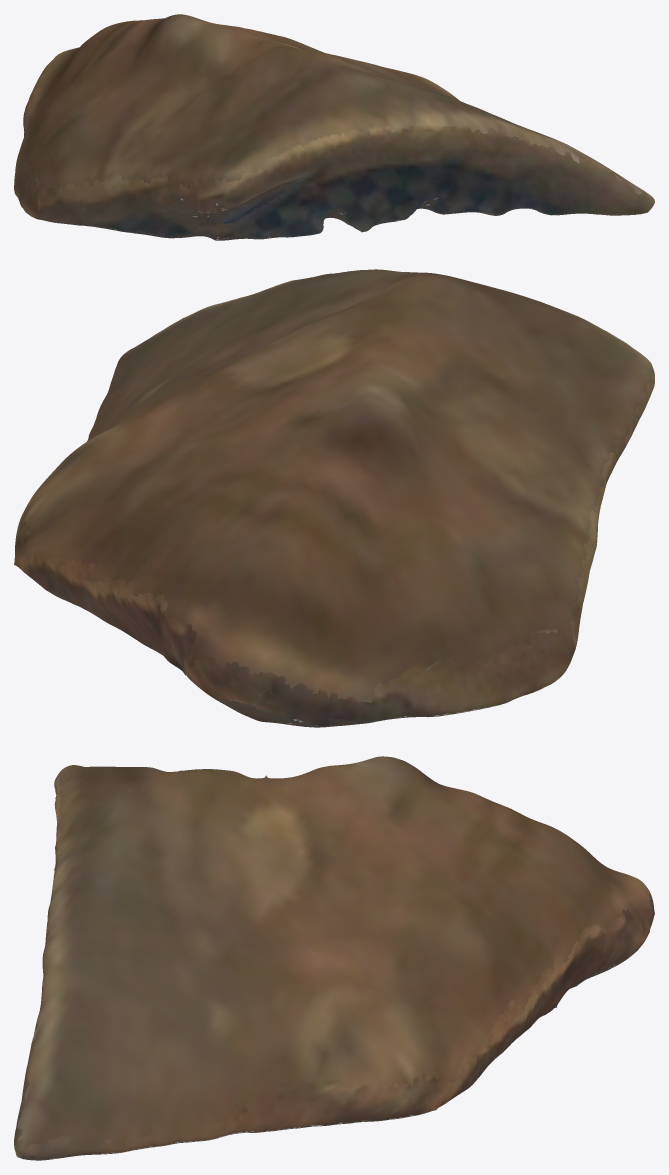
Rendered from cje_moche.glb.
The picture shows the model from 3 angles, top to bottom: view 1: azimuth 30°, elevation 25°; view 2: azimuth 150°, elevation 25°; view 3: azimuth 270°, elevation 25°; orthographic projection. The views are drawn at different scales.
Visible parts, largest first — view 1: Object_2, Object_3; view 2: Object_2, Object_3; view 3: Object_2, Object_3.
Boxes of the visible parts, x1,y1,x2,y2 form: Object_2: [14, 14, 654, 240]; Object_3: [30, 21, 646, 240]; Object_2: [14, 269, 654, 726]; Object_3: [37, 278, 654, 727]; Object_2: [14, 756, 654, 1160]; Object_3: [20, 818, 654, 1159].
Size of the model in its own units: 71.66 by 26.55 by 67.24.
Materials: 1 (1 with a texture image).
